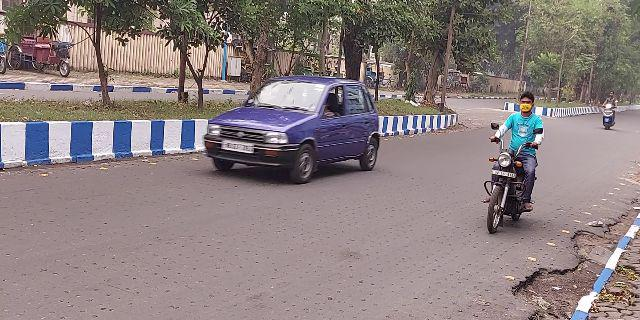Car: (201, 70, 383, 180)
Motorbike: (483, 85, 544, 242), (602, 89, 620, 132)
